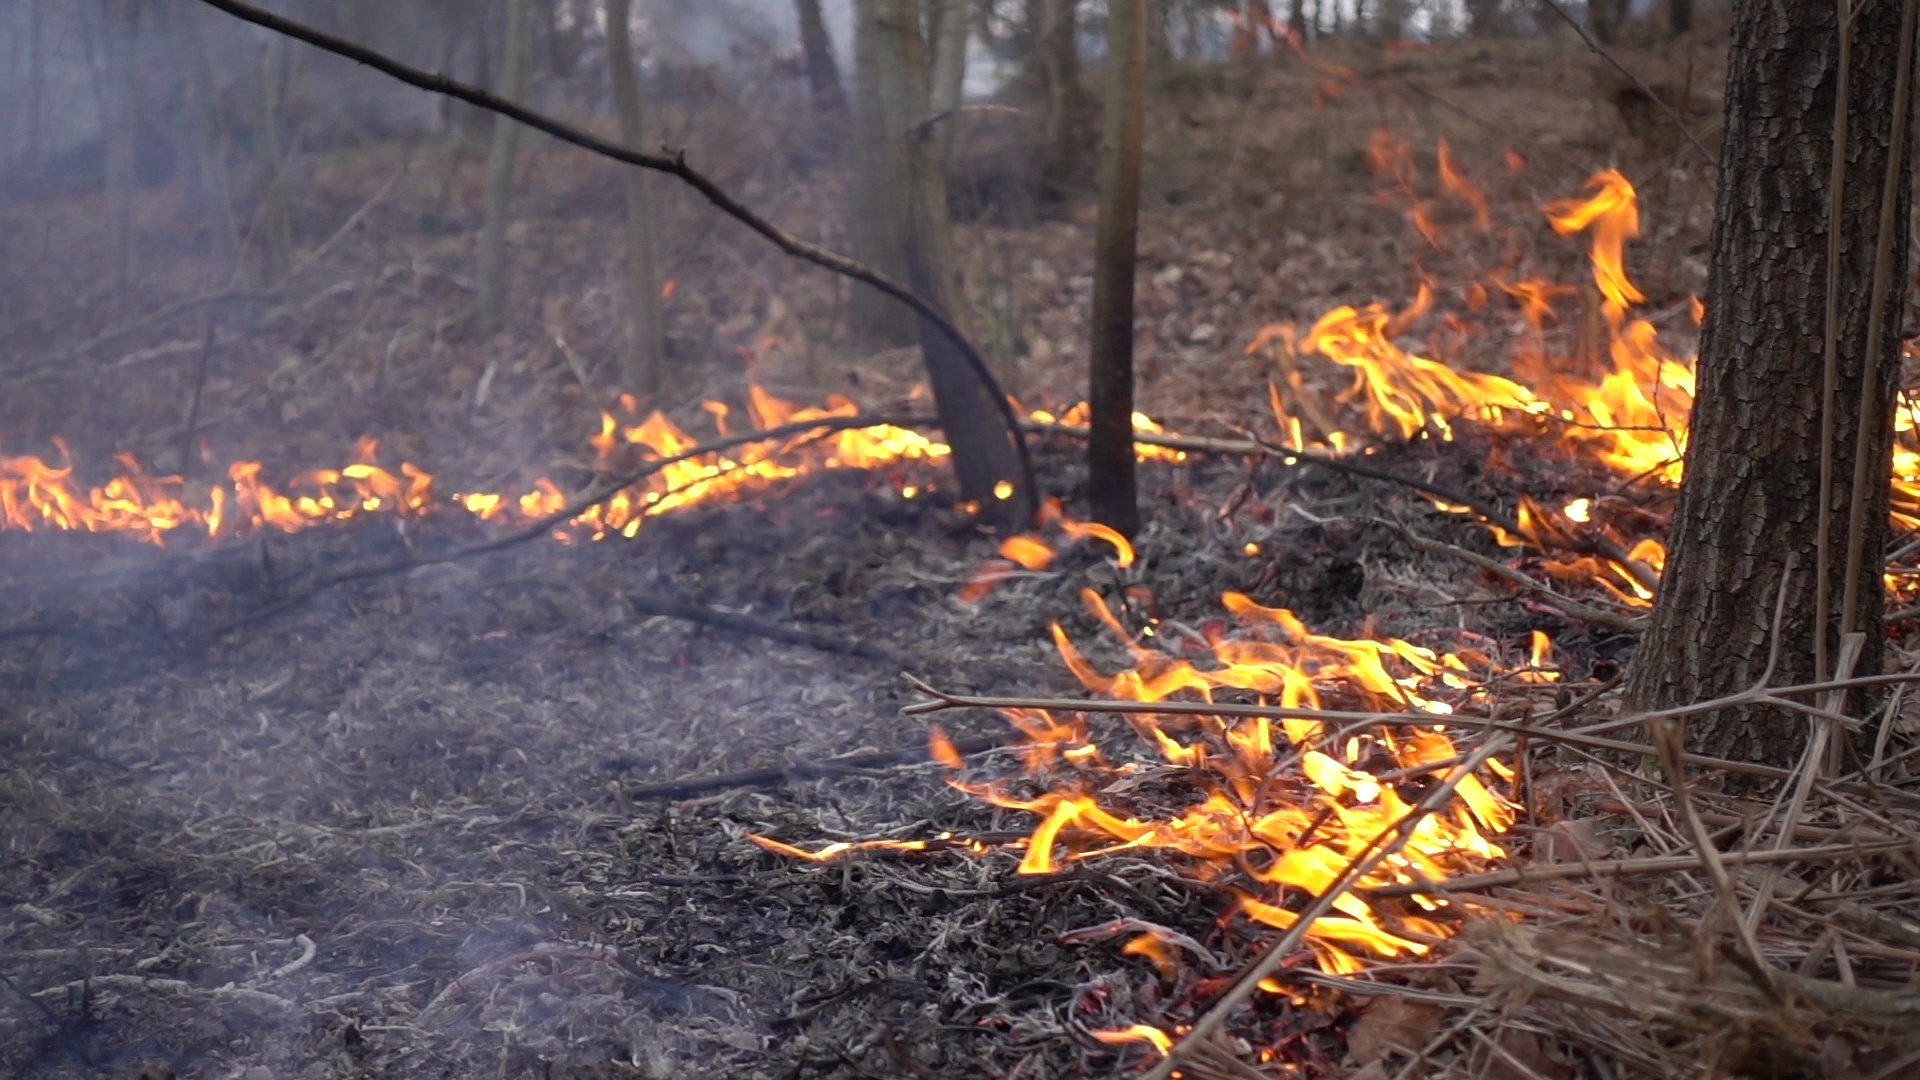fire: (1025, 597, 1516, 975), (1273, 170, 1695, 484), (616, 396, 920, 506), (4, 458, 169, 530), (222, 464, 422, 516), (1896, 400, 1920, 502)
